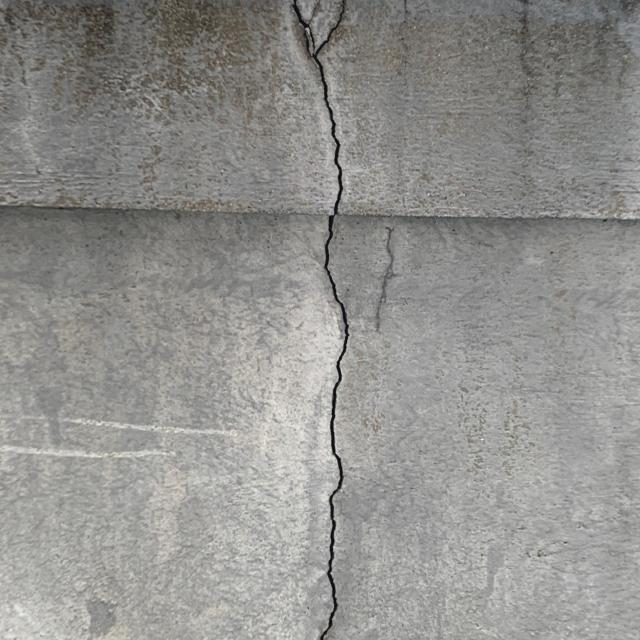SurfaceCrack: (270, 210, 396, 640)
